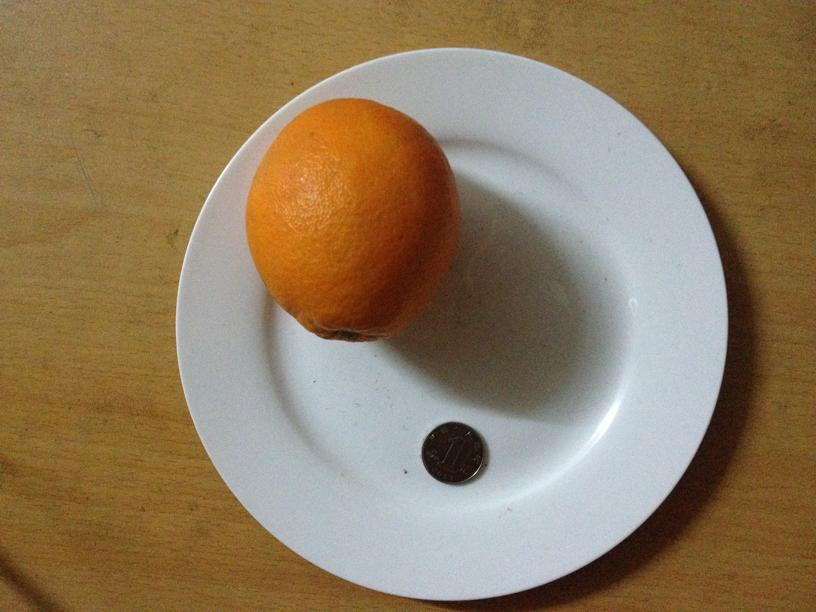coin: (421, 419, 487, 484)
orange: (242, 98, 454, 346)
